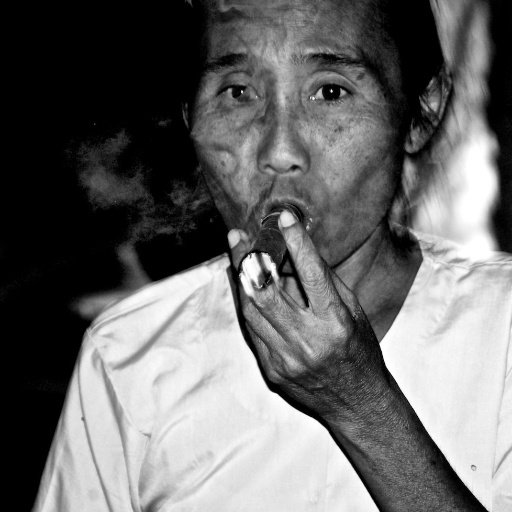hand: (235, 208, 444, 468)
